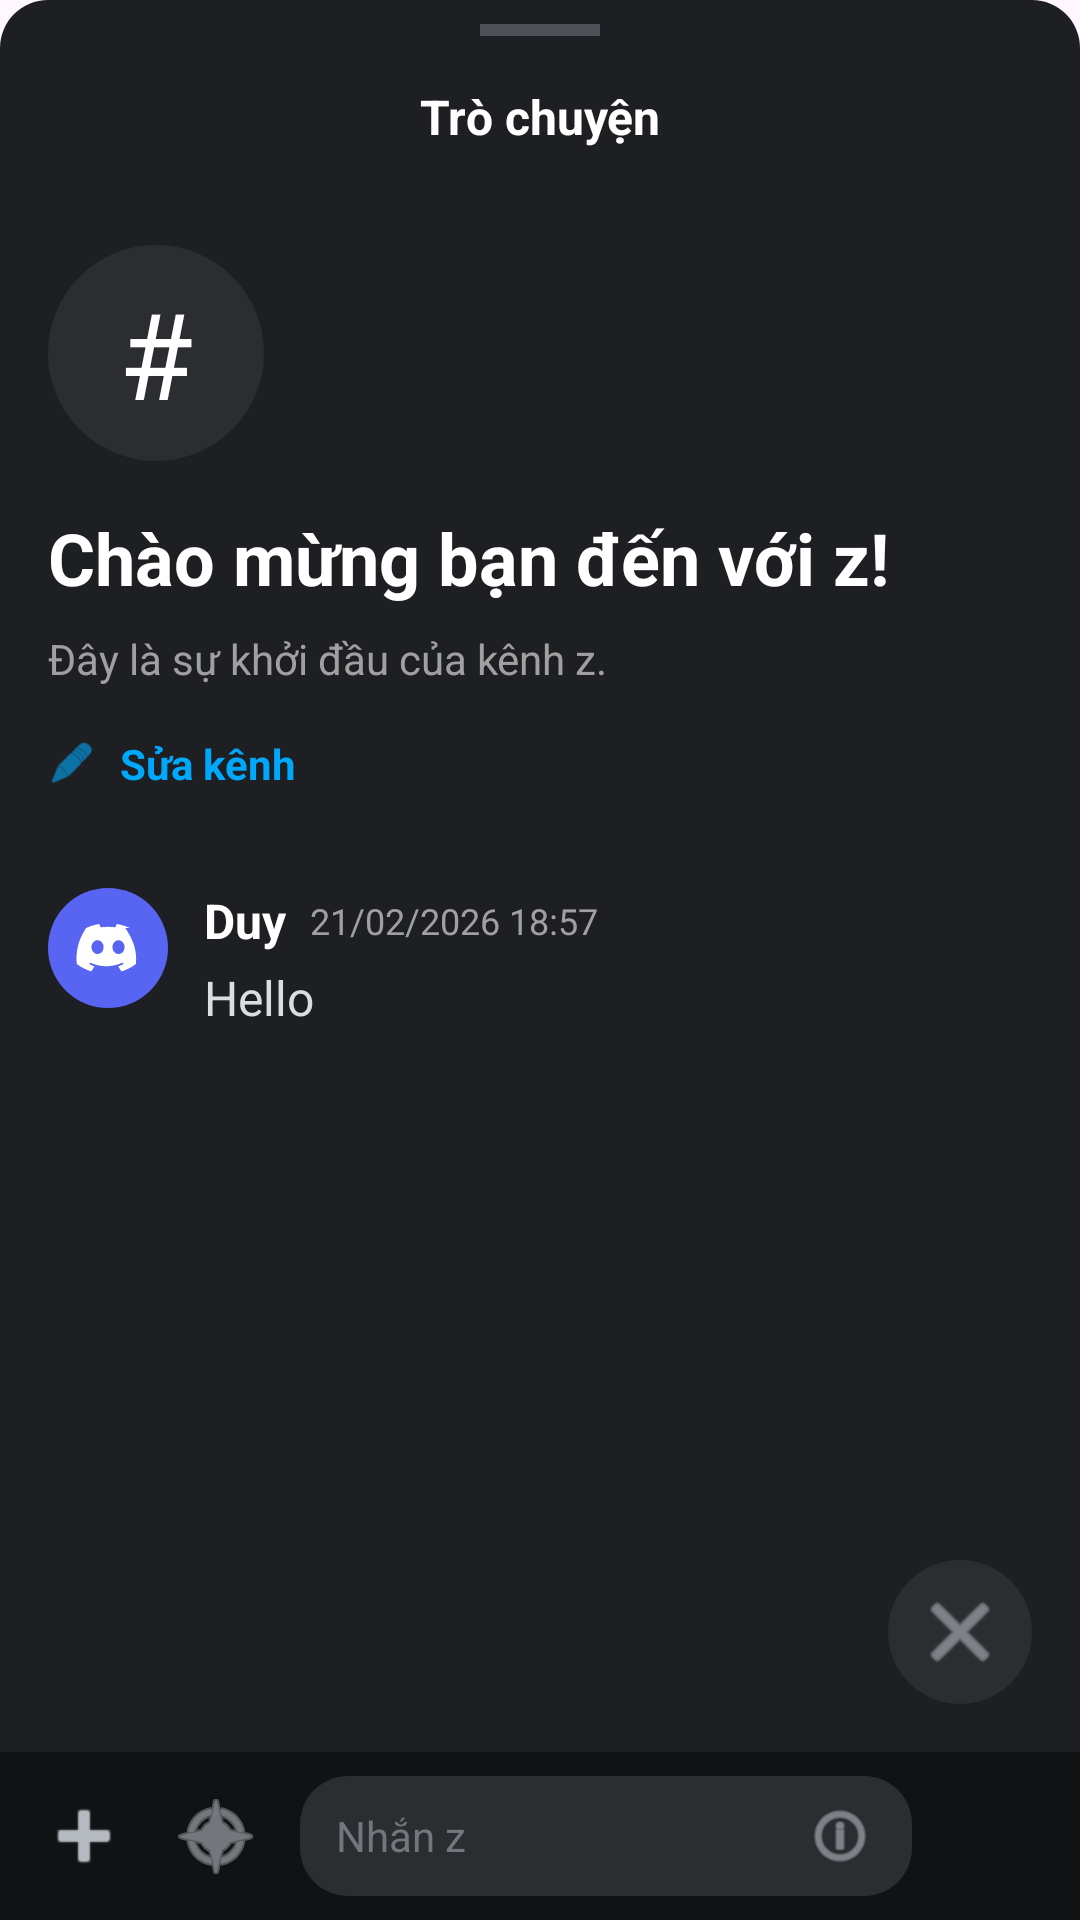

Where to tap for icons on this 1080px x 1920px app screen, as [x,y]:
add: [84,1836]
close clear cancel: [960,1632]
compass: [215,1836]
edit: [72,762]
info details: [840,1836]
